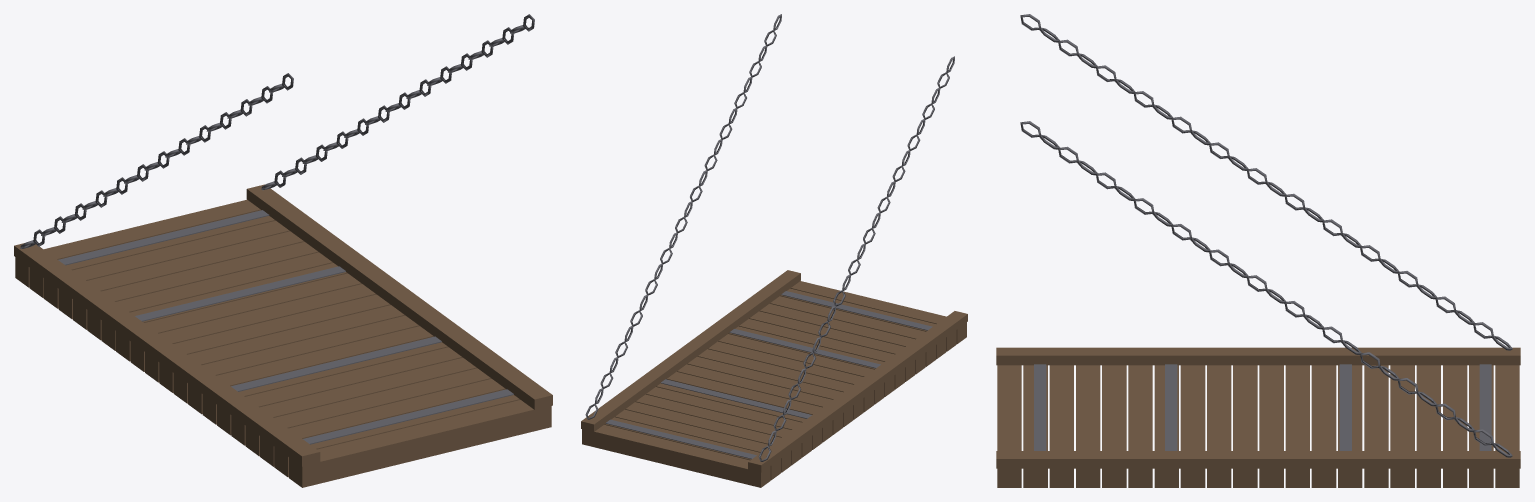
Rendered from Drawbridge.fbx.
3 views of the same model, side by side, from view 1: azimuth 30°, elevation 25°; view 2: azimuth 150°, elevation 25°; view 3: azimuth 270°, elevation 25° (orthographic). The views are drawn at different scales.
Visible parts, largest first — view 1: Drawbridge; view 2: Drawbridge; view 3: Drawbridge.
Boxes of the visible parts, x1,y1,x2,y2 form: Drawbridge: (14, 14, 552, 487); Drawbridge: (581, 14, 967, 487); Drawbridge: (996, 14, 1520, 487).
Size of the model in its own units: 3.05 by 4.61 by 6.
